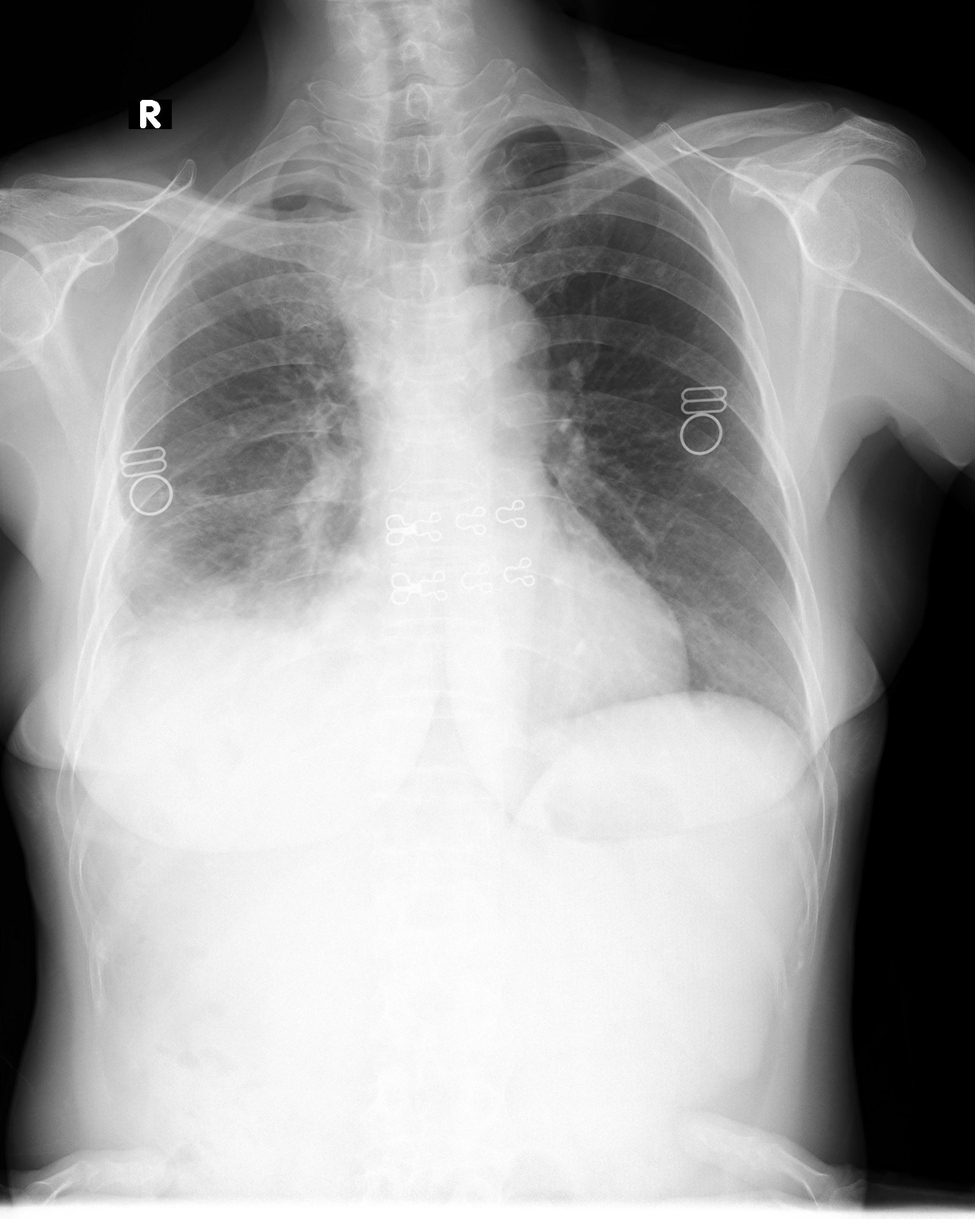Aortic enlargement: (413, 281, 556, 459)
Pleural thickening: (165, 143, 370, 238)
